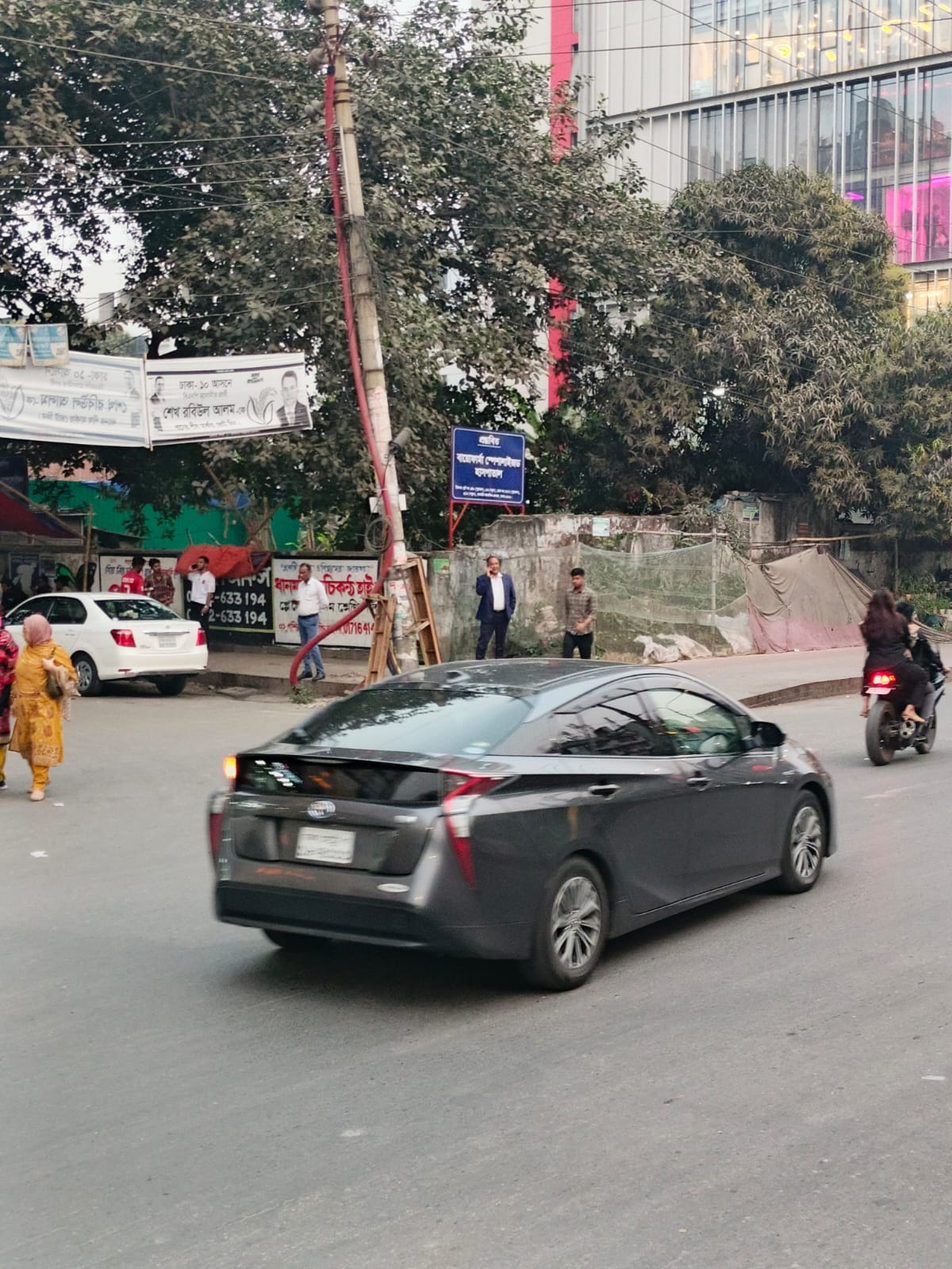Bikes: (846, 598, 952, 779)
private car: (180, 624, 869, 989), (11, 548, 239, 731)
